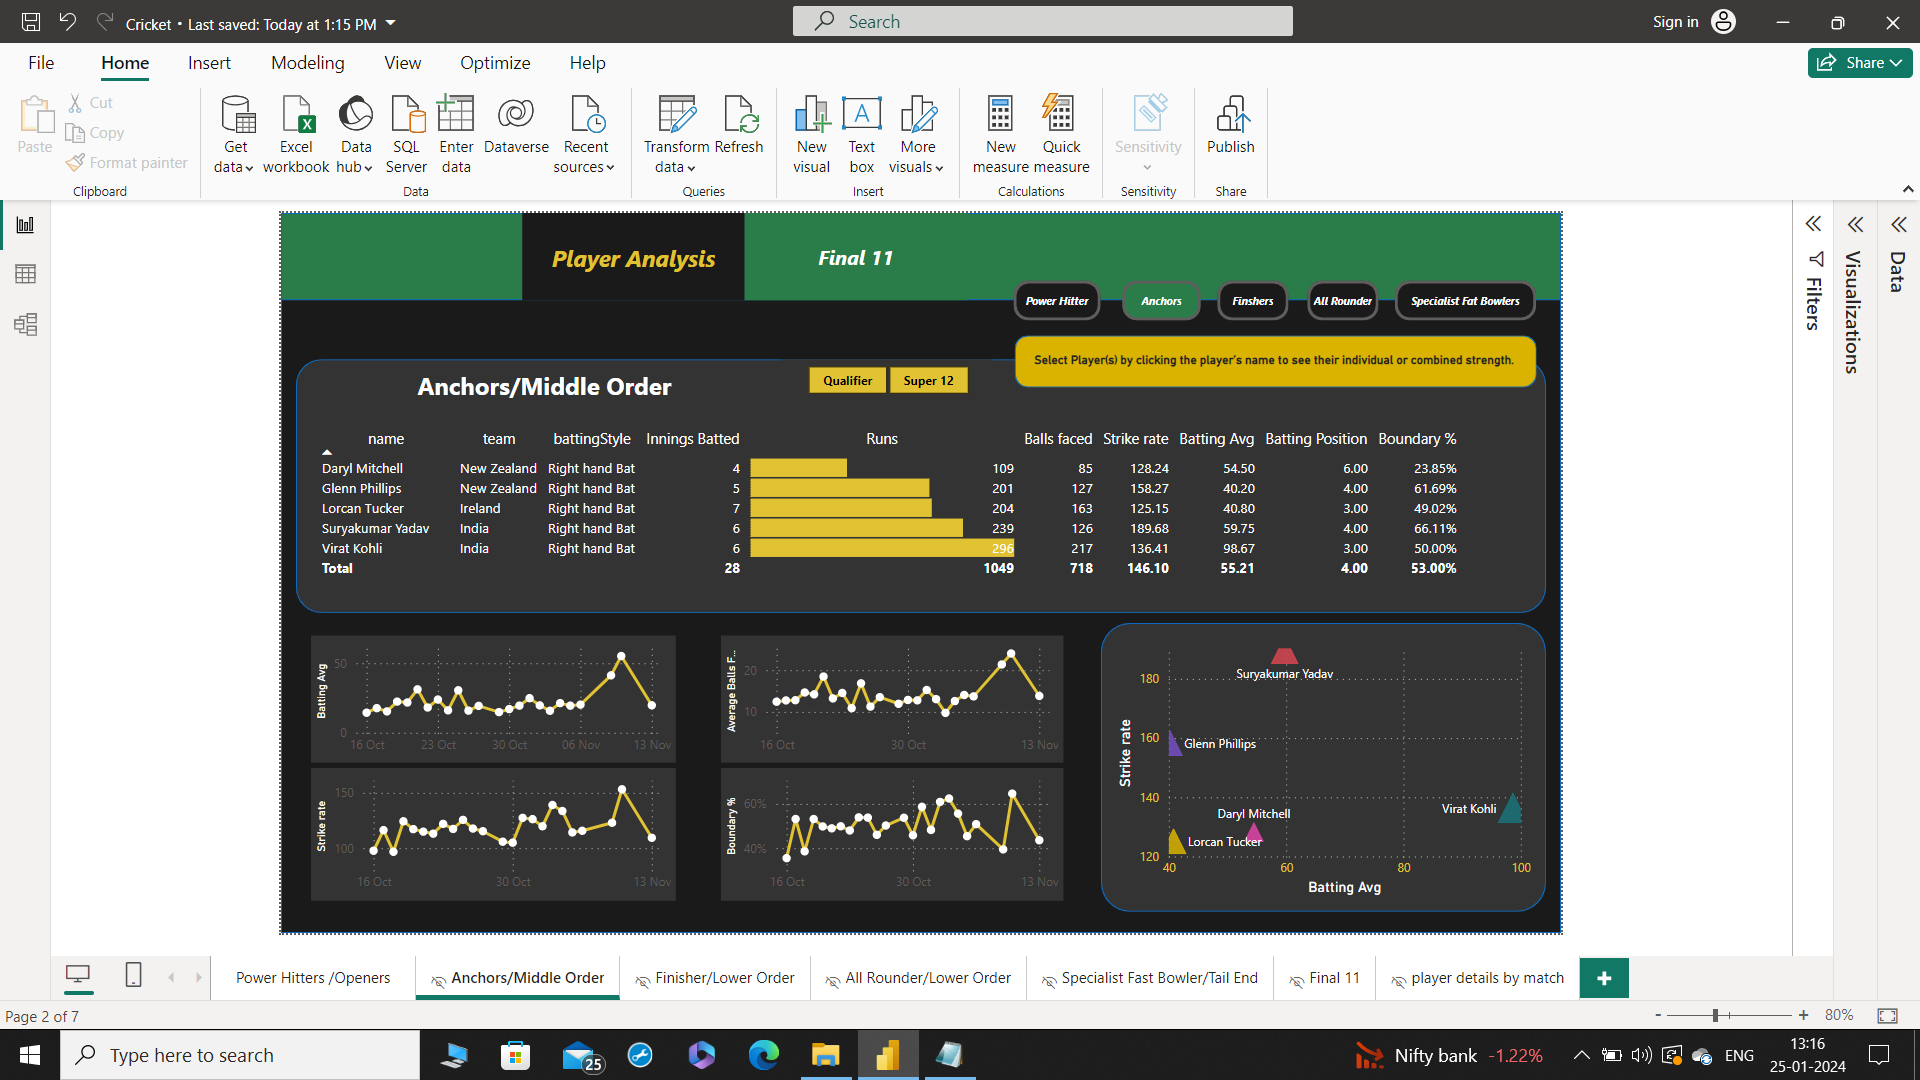

The dashboard page shown, as its layout file describes it:
{"tool":"powerbi","page":{"name":"Anchors/Middle Order","canvas":[1280,720],"ordinal":1},"visuals":[{"type":"shape","box":[0,78.8,1280,641.2],"z":0},{"type":"shape","box":[0,0,1280,87.1],"z":1000},{"type":"lineChart","fields":{"Y":["Key Measures.Batting Avg"],"Category":["dim_match_summary.matchDate"]},"box":[30,422.5,365,127.5],"z":2000},{"type":"lineChart","fields":{"Y":["Key Measures.Strike rate"],"Category":["dim_match_summary.matchDate"]},"box":[30,555,365,132.5],"z":3000},{"type":"lineChart","fields":{"Y":["Key Measures.Boundary %"],"Category":["dim_match_summary.matchDate"]},"box":[440,555,342.5,132.5],"z":4000},{"type":"lineChart","fields":{"Y":["Key Measures.Average Balls Faced"],"Category":["dim_match_summary.matchDate"]},"box":[440,422.5,342.5,127.5],"z":5000},{"type":"actionButton","box":[241.2,0,222.5,87.5],"z":6000},{"type":"shape","box":[820,410,445,288.8],"z":7000},{"type":"actionButton","box":[463.8,0,222.5,87.5],"z":8000},{"type":"actionButton","box":[732.9,67.1,87.1,40],"z":9000},{"type":"shape","box":[15,146.2,1250,253.8],"z":10000},{"type":"actionButton","box":[841.4,67.1,78.6,40],"z":11000},{"type":"actionButton","box":[935.7,67.1,71.4,40],"z":12000},{"type":"actionButton","box":[1114.3,67.1,141.4,40],"z":13000},{"type":"slicer","fields":{"Values":["dim_match_summary.stage"]},"box":[501.2,146.2,210,41.2],"z":15000},{"type":"scatterChart","fields":{"X":["Key Measures.Batting Avg"],"Y":["Key Measures.Strike rate"],"Category":["dim_players.name"],"Series":["dim_players.name"],"Size":["Key Measures.Total Runs"]},"box":[831.2,422.5,423.8,265],"z":16000},{"type":"textbox","box":[105.7,151.4,314.3,45.7],"z":17000},{"type":"tableEx","title":"Shortlisted Based On Criteria","fields":{"Values":["dim_players.name","dim_players.team","dim_players.battingStyle","Key Measures.Total Innings Batted","Key Measures.Total Runs","Key Measures.total balls faced","Key Measures.Strike rate","Key Measures.Batting Avg","Key Measures.Batting Position","Key Measures.Boundary %"]},"box":[30,208.6,1225.7,181.4],"z":18000},{"type":"actionButton","box":[1025.7,67.1,71.4,40],"z":19000},{"type":"shape","box":[733.1,122.5,521.9,51.9],"z":19001},{"type":"textbox","title":"Combined Strength","box":[755,137.5,162.5,21.2],"z":19002},{"type":"card","fields":{"Values":["Key Measures.Batting Avg"]},"box":[940,122.1,62.9,51.4],"z":19003},{"type":"card","fields":{"Values":["Key Measures.Strike rate"]},"box":[1008.6,122.1,62.9,51.4],"z":19004},{"type":"card","fields":{"Values":["Key Measures.Average Balls Faced"]},"box":[1077.1,122.9,62.9,51.4],"z":19005},{"type":"card","fields":{"Values":["Key Measures.Boundary %"]},"box":[1147.1,122.1,68.6,51.4],"z":19006},{"type":"card","fields":{"Values":["Key Measures.Display Text"]},"box":[746.2,132.5,493.8,32.5],"z":19007}]}

Visuals, with their boxes on the page's 1280x720 design canvas (x1, y1, x2, y2). These are canvas units, not pixel positions in the 1920x1080 screenshot, which may show the page scaled, cropped or inside an application window:
shape: rect(0, 79, 1280, 720)
shape: rect(0, 0, 1280, 87)
lineChart - Key Measures.Batting Avg x dim_match_summary.matchDate: rect(30, 422, 395, 550)
lineChart - Key Measures.Strike rate x dim_match_summary.matchDate: rect(30, 555, 395, 688)
lineChart - Key Measures.Boundary % x dim_match_summary.matchDate: rect(440, 555, 782, 688)
lineChart - Key Measures.Average Balls Faced x dim_match_summary.matchDate: rect(440, 422, 782, 550)
actionButton: rect(241, 0, 464, 88)
shape: rect(820, 410, 1265, 699)
actionButton: rect(464, 0, 686, 88)
actionButton: rect(733, 67, 820, 107)
shape: rect(15, 146, 1265, 400)
actionButton: rect(841, 67, 920, 107)
actionButton: rect(936, 67, 1007, 107)
actionButton: rect(1114, 67, 1256, 107)
slicer - dim_match_summary.stage: rect(501, 146, 711, 187)
scatterChart - Key Measures.Batting Avg x Key Measures.Strike rate: rect(831, 422, 1255, 688)
textbox: rect(106, 151, 420, 197)
"Shortlisted Based On Criteria" tableEx: rect(30, 209, 1256, 390)
actionButton: rect(1026, 67, 1097, 107)
shape: rect(733, 122, 1255, 174)
"Combined Strength" textbox: rect(755, 138, 918, 159)
card - Key Measures.Batting Avg: rect(940, 122, 1003, 174)
card - Key Measures.Strike rate: rect(1009, 122, 1072, 174)
card - Key Measures.Average Balls Faced: rect(1077, 123, 1140, 174)
card - Key Measures.Boundary %: rect(1147, 122, 1216, 174)
card - Key Measures.Display Text: rect(746, 132, 1240, 165)
